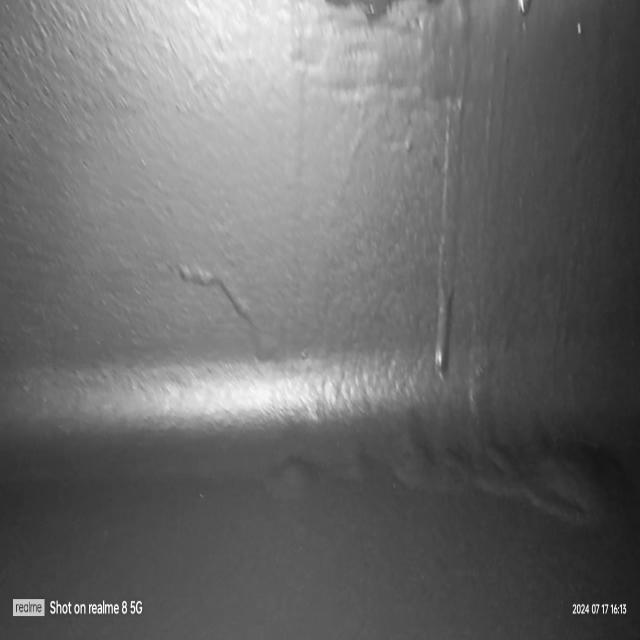paint drips: (408, 0, 475, 382), (172, 244, 290, 362), (510, 0, 596, 53)
